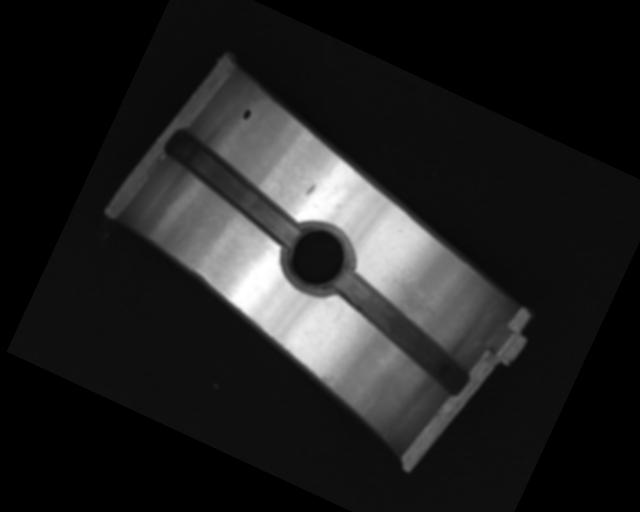blot: (239, 106, 253, 123)
bruise: (303, 181, 316, 197)
gap: (314, 266, 490, 396), (149, 125, 317, 248)
hole: (271, 209, 366, 303)
scratch: (375, 263, 458, 326)
